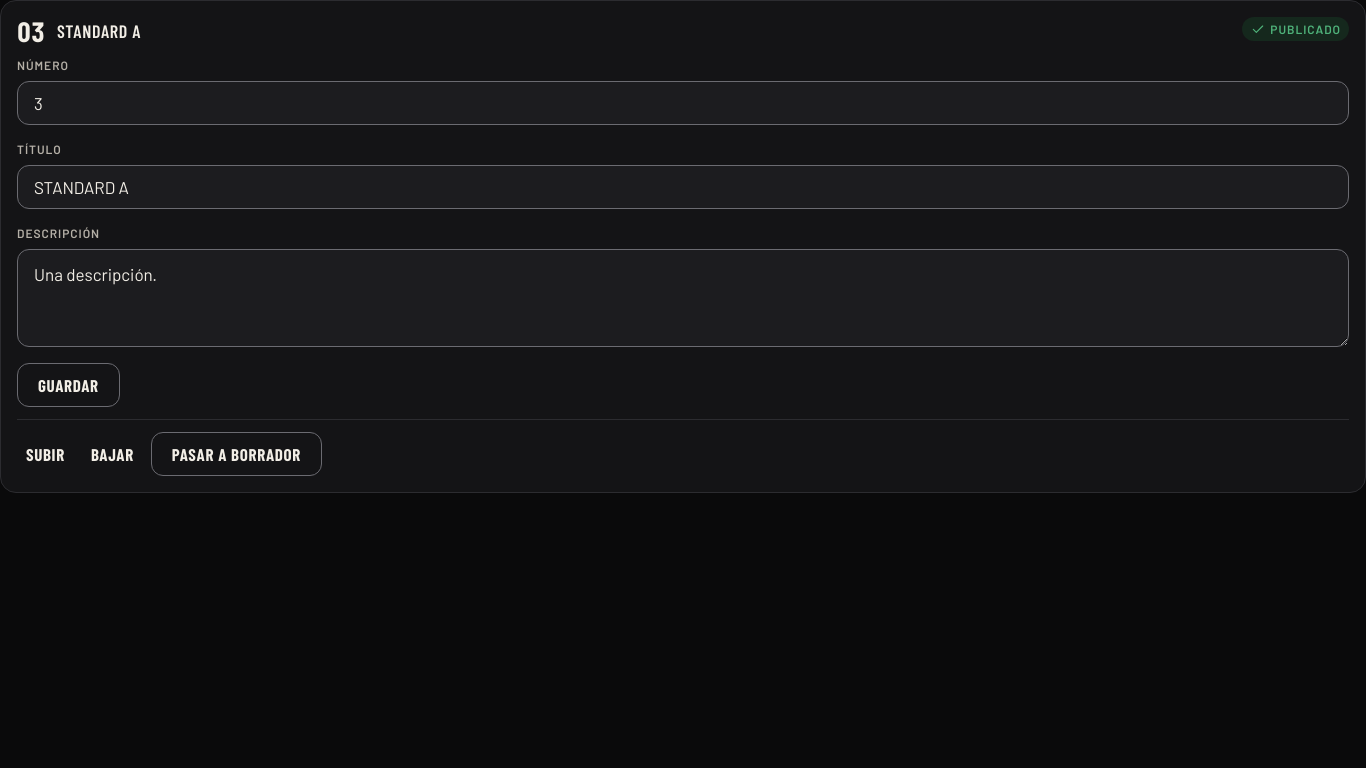
Scenario: StandardEditor · un Standard que existe › entrada inválida: cada error bajo su campo
The image size is (1366, 768).
Click the button "Guardar" at point(68, 385), box [17,363,120,407]
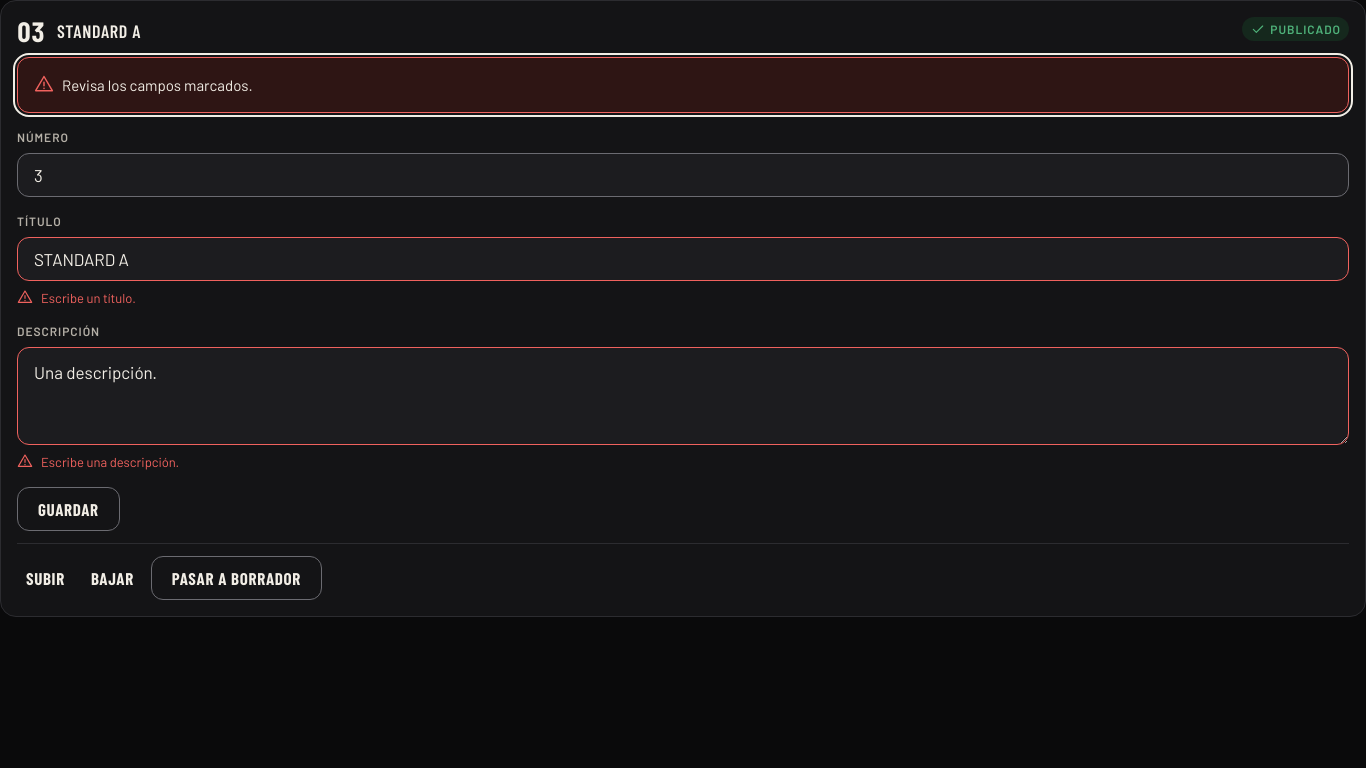
Now the text "Revisa los campos marcados." is shown, box [34,74,253,94]
